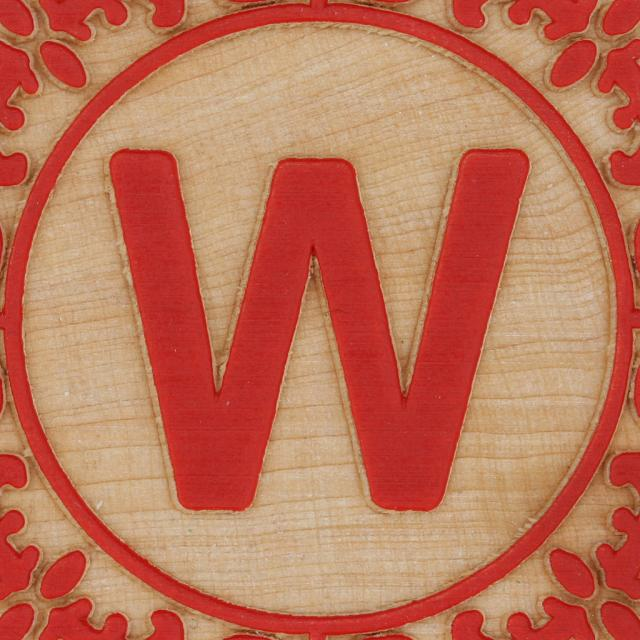W: (106, 144, 538, 516)
